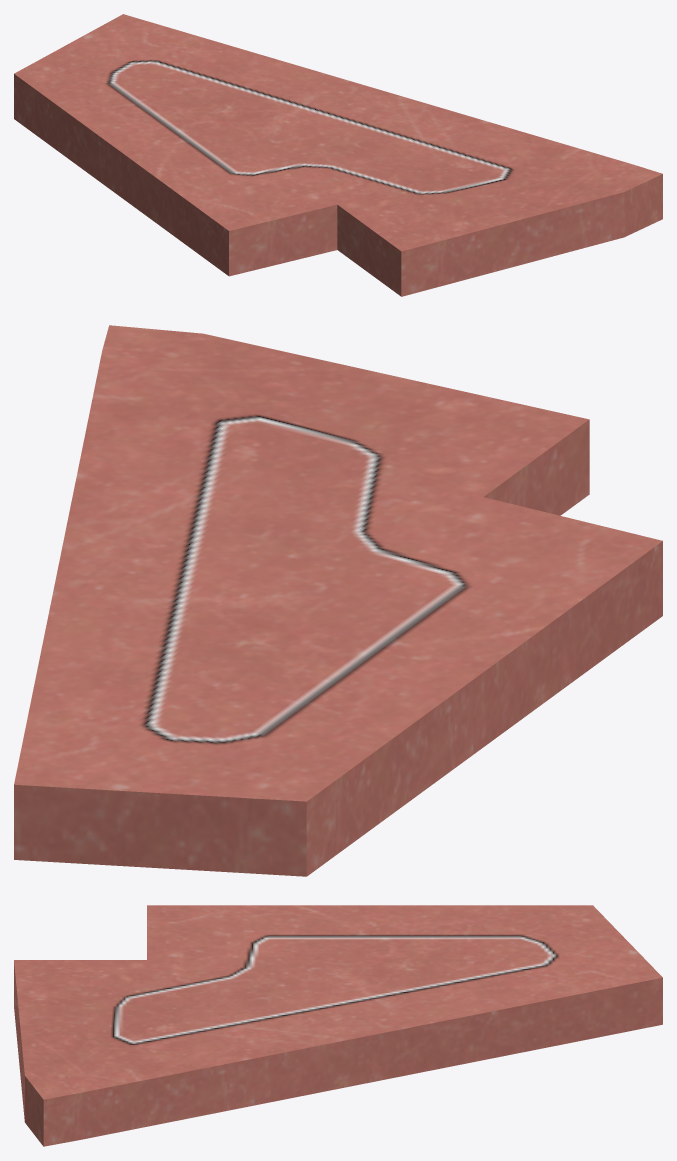
The model's file is SM_SJJ_HG_Wall06M.fbx.
3 renders of one model, top to bottom at view 1: azimuth 30°, elevation 25°; view 2: azimuth 150°, elevation 25°; view 3: azimuth 270°, elevation 25°, orthographic. The views are drawn at different scales.
Visible parts, largest first — view 1: SM_SJJ_HG_Wall06M; view 2: SM_SJJ_HG_Wall06M; view 3: SM_SJJ_HG_Wall06M.
Part boxes in pixels (left/top/right/bottom): SM_SJJ_HG_Wall06M: left=14, top=14, right=662, bottom=296; SM_SJJ_HG_Wall06M: left=14, top=325, right=662, bottom=876; SM_SJJ_HG_Wall06M: left=14, top=905, right=662, bottom=1146.
Size of the model in its own units: 88.61 by 125 by 10.
Materials: 1 (1 with a texture image).
